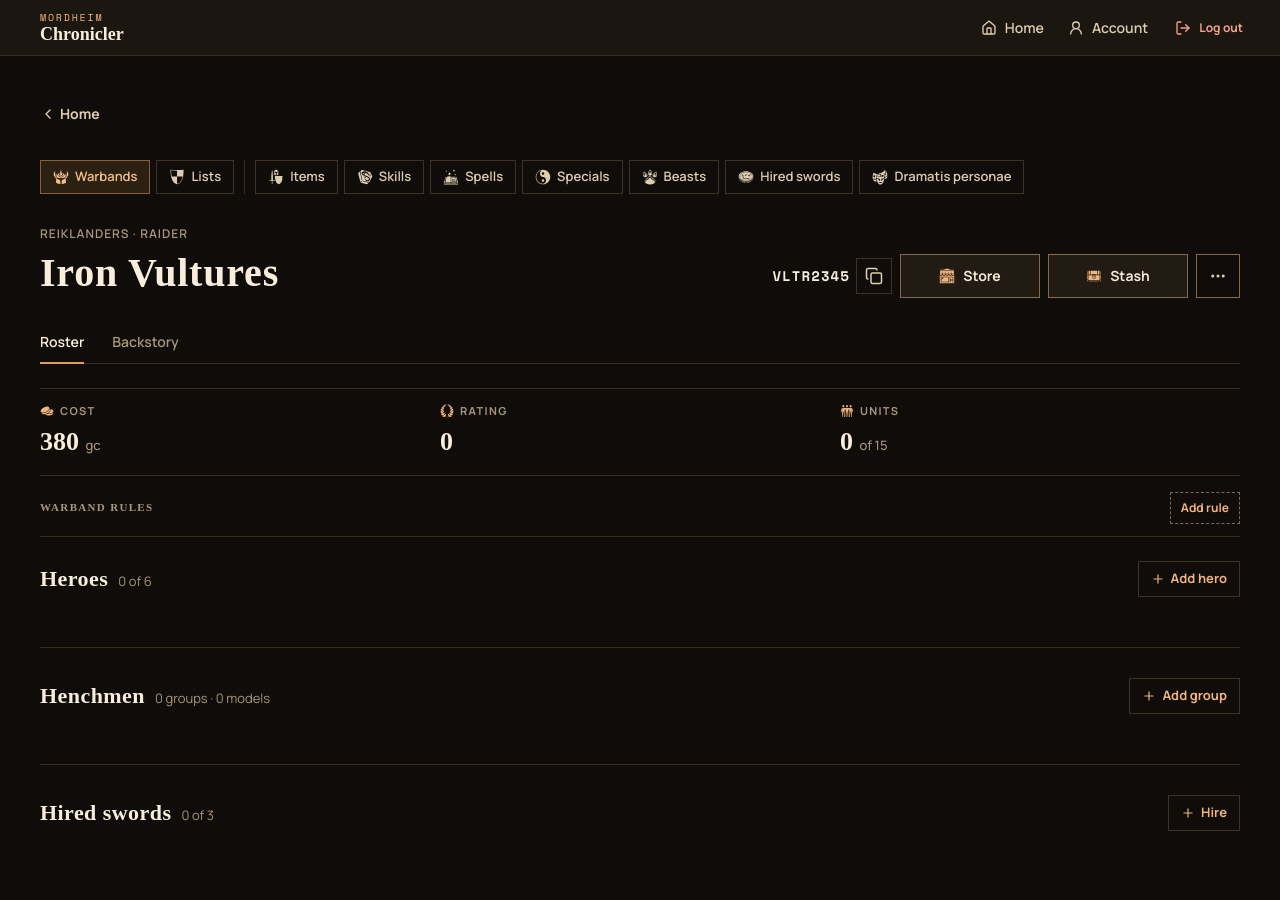
Test: the warband page and the workshop › changes a workshop warband's most warriors in its Settings, with no budget to set
Click the button named "More warband actions".
click(1218, 276)  # box x1=1196 y1=254 x2=1240 y2=298
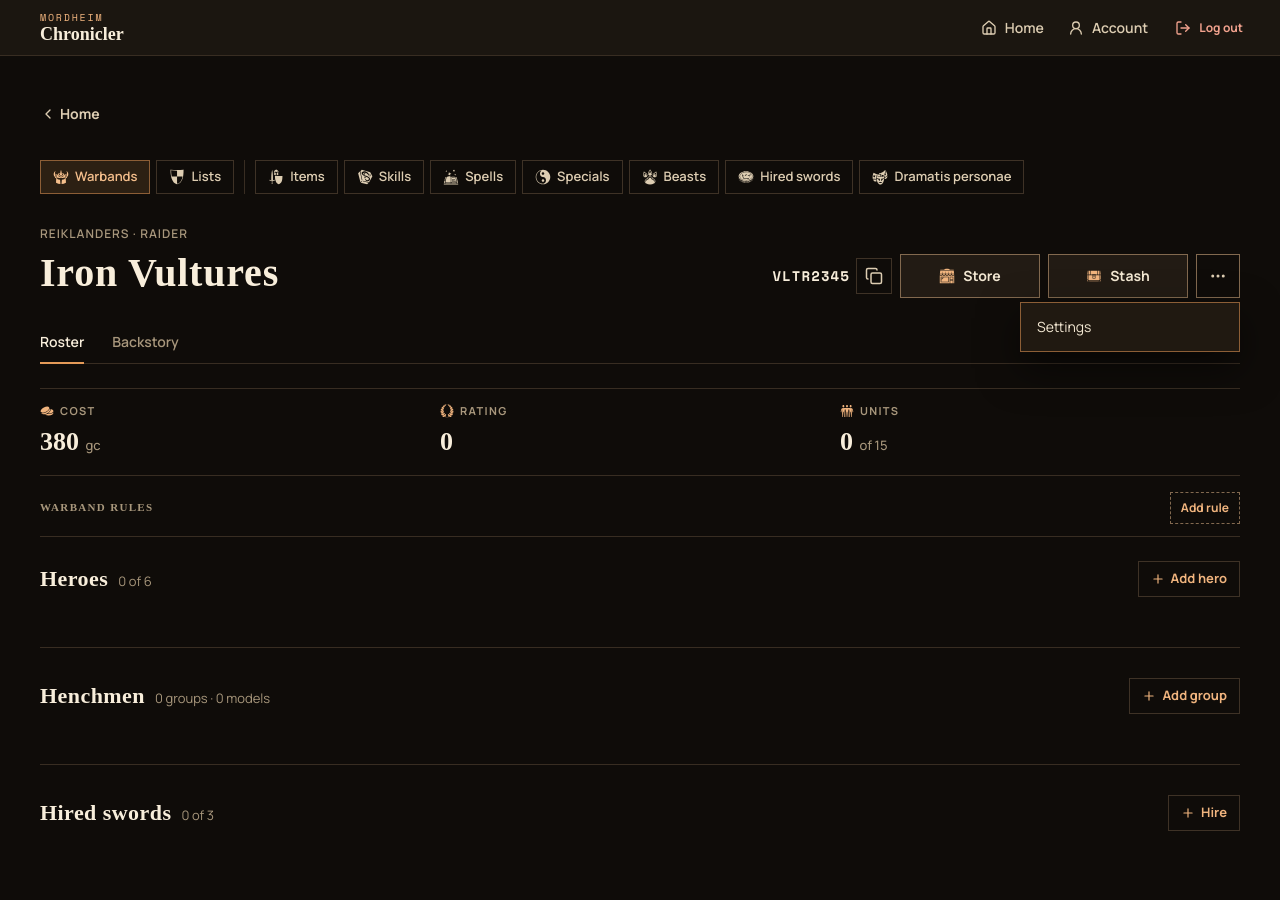
Click the menu item "Settings".
click(1064, 326)  # box x1=1037 y1=317 x2=1091 y2=336
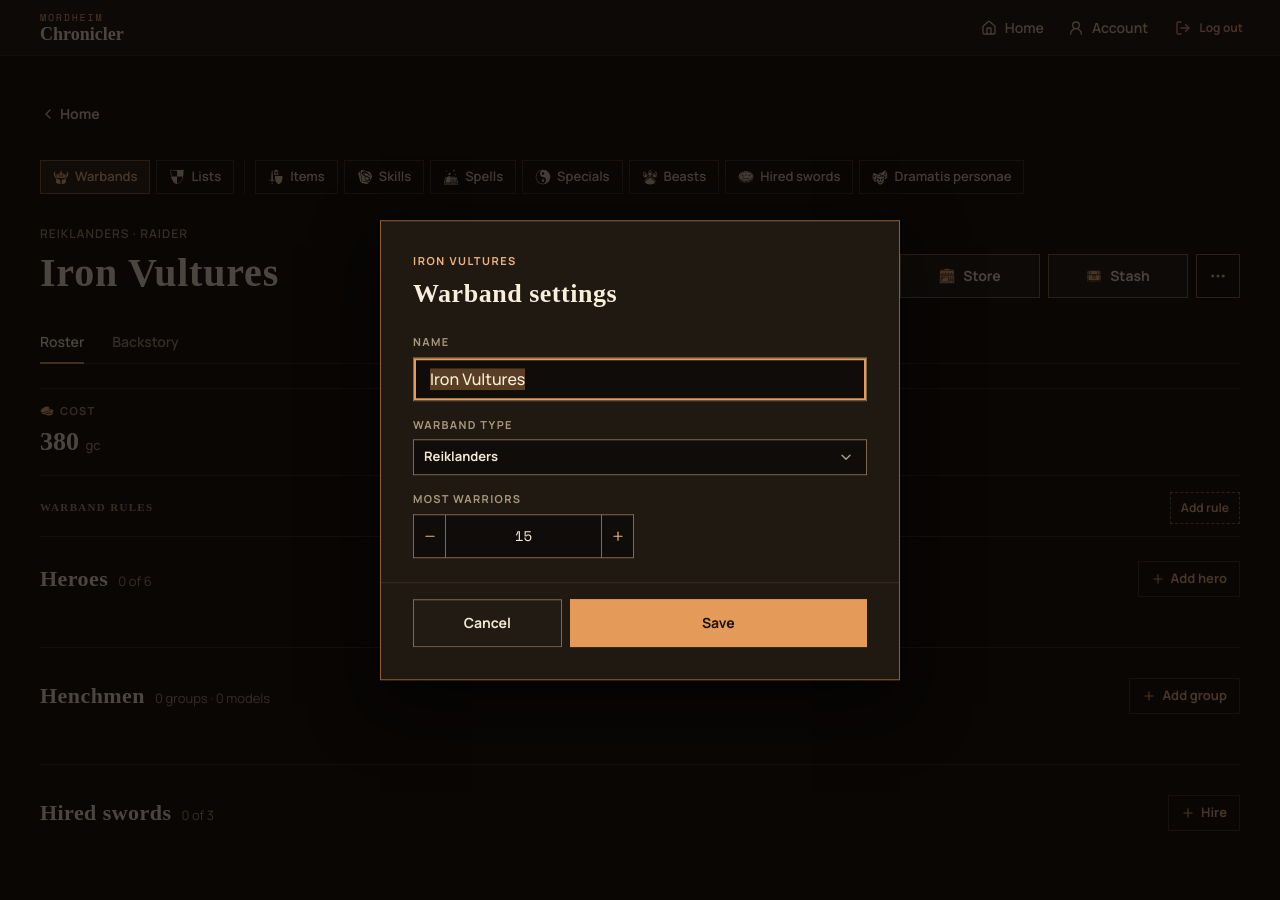
Expected: the number field labelled "Most warriors" holds "15"
Replace the text in the number field labelled "Most warriors" with "12" at (524, 536), box x1=445 y1=514 x2=602 y2=558
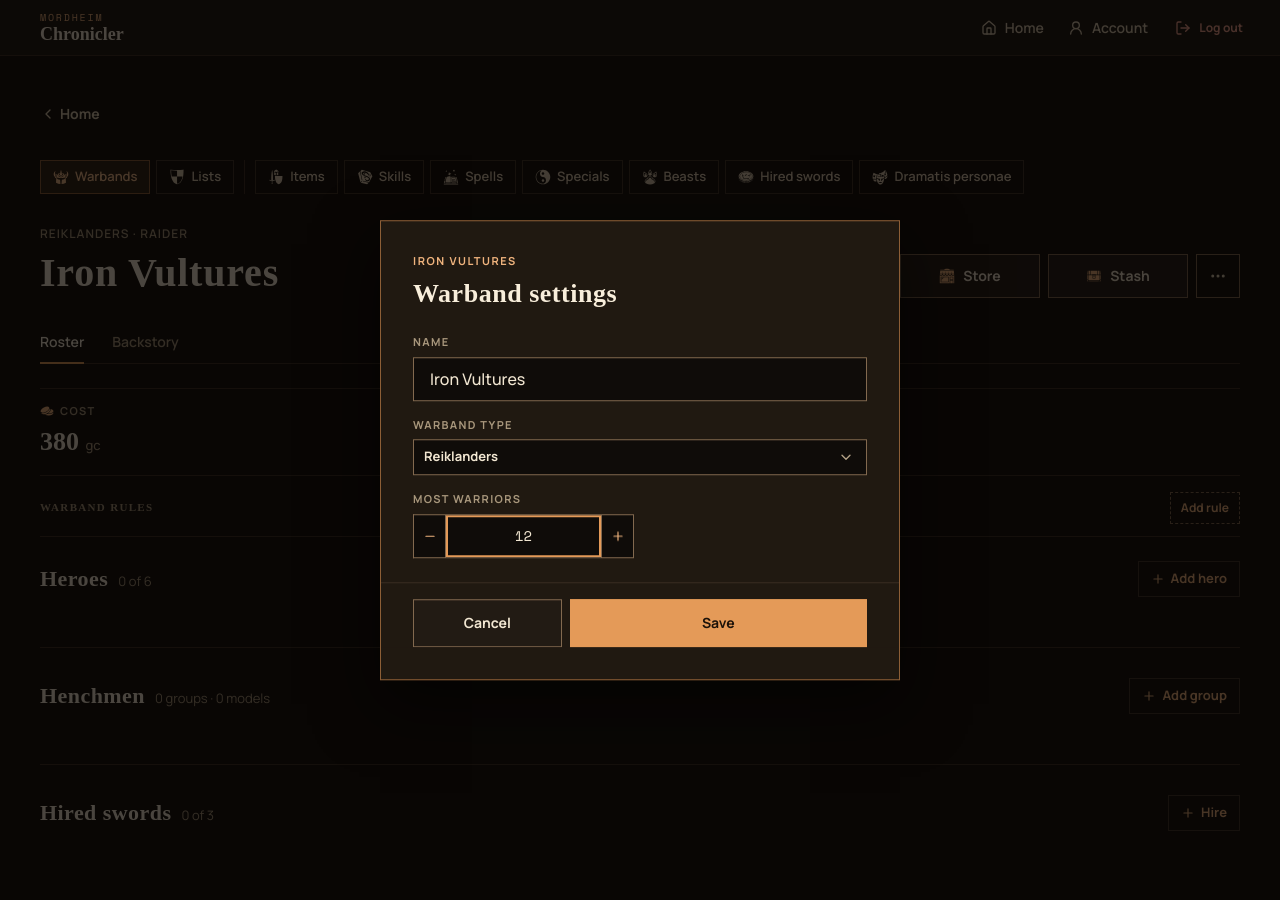
Click the button "Save".
click(718, 623)  # box x1=570 y1=599 x2=867 y2=647
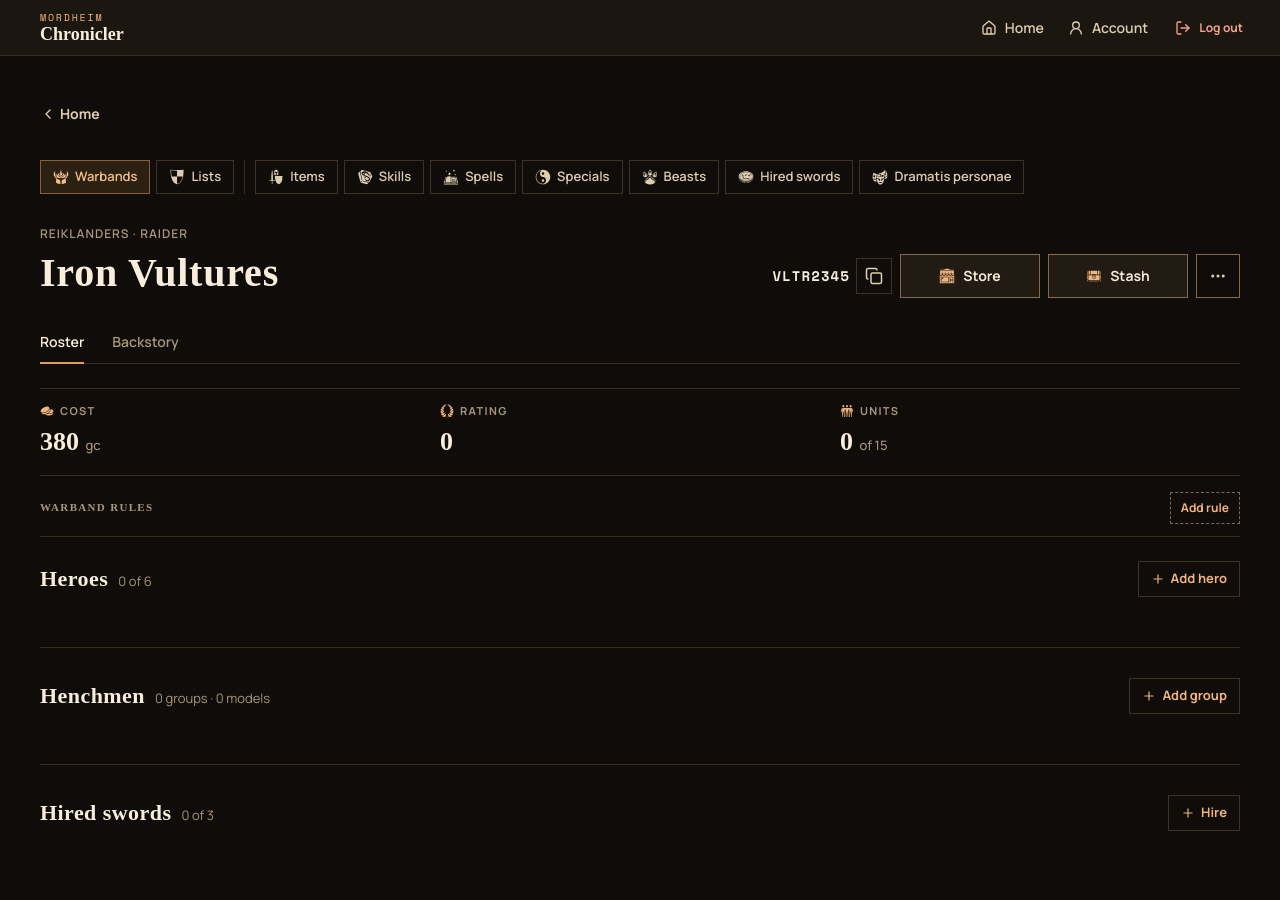
Expected: the dialog is gone
